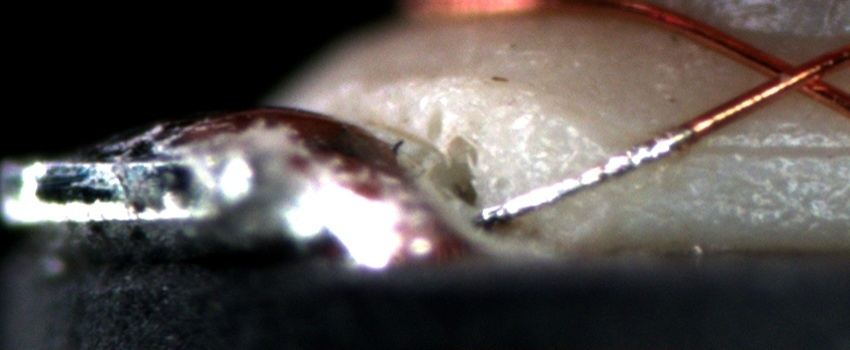CL: (741, 46, 840, 104)
DL: (687, 112, 850, 176)
TS: (477, 130, 687, 225)
